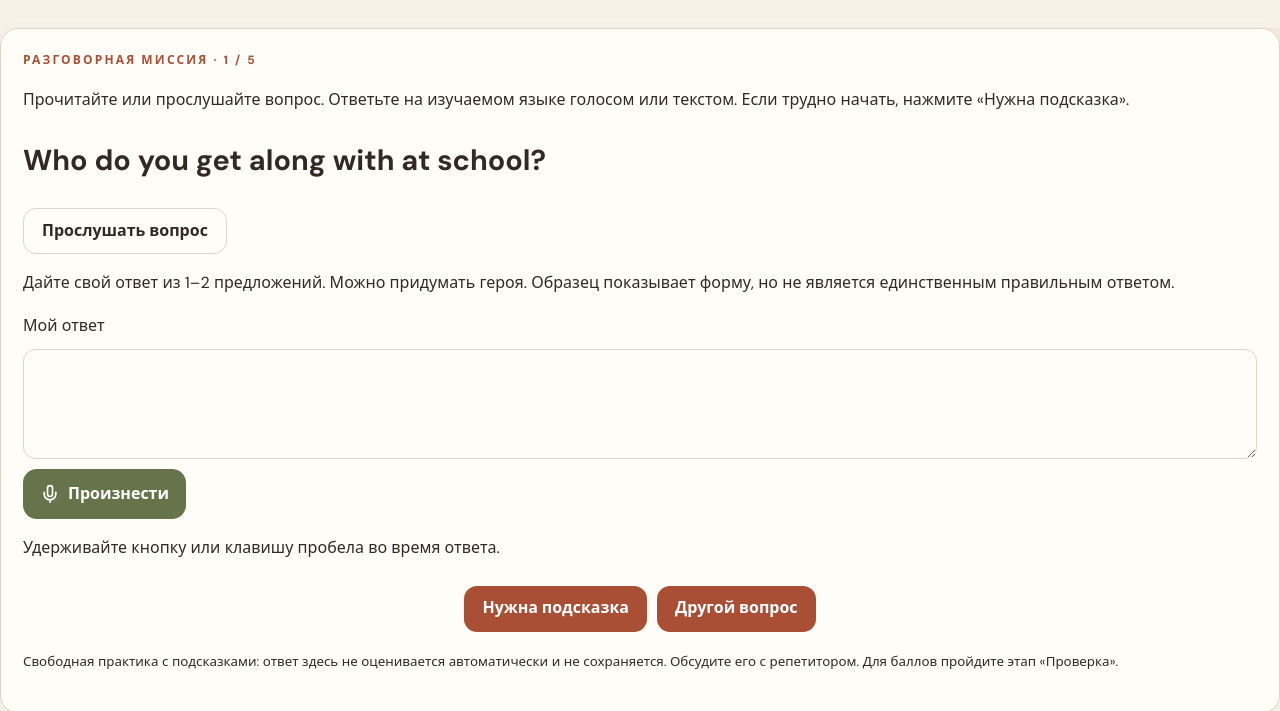
Scenario: English learning expansion › offers a model on demand and clears answers when moving to another question
Expected: the text "I get along with my cousin." is not shown
Click the button "Нужна подсказка" at (556, 609), box [464,586,647,632]
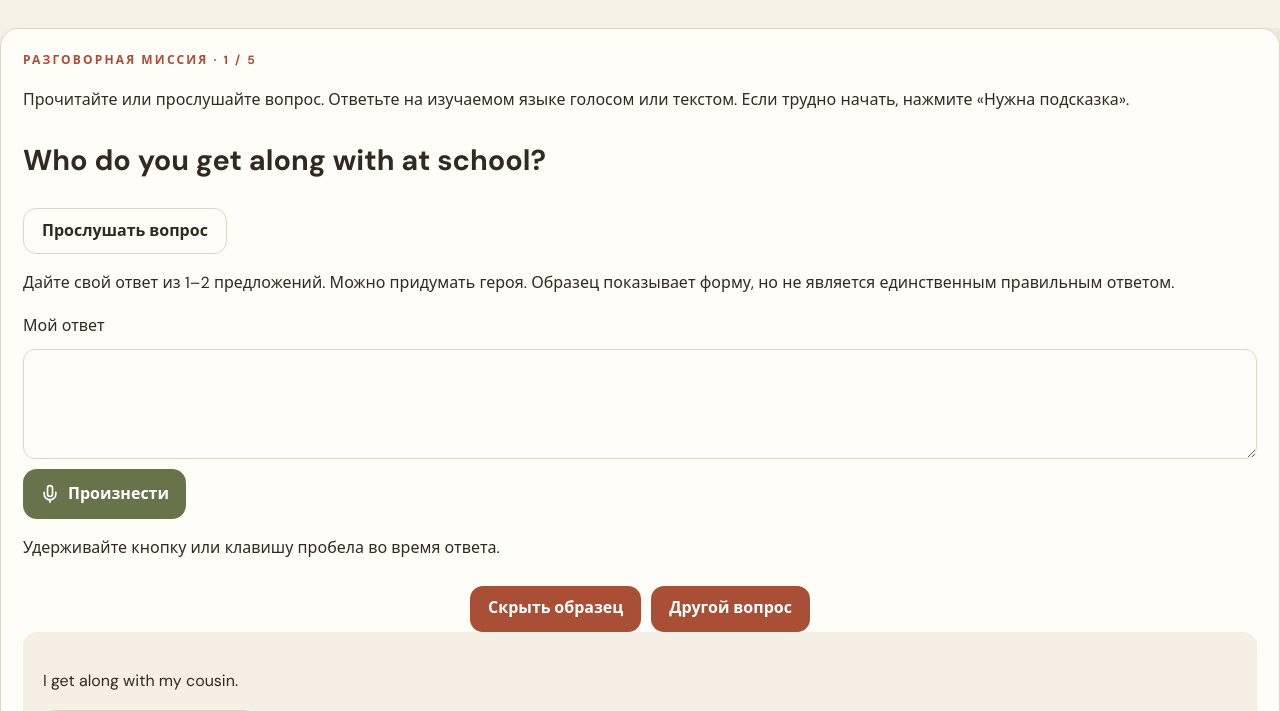
Expected: the text "I get along with my cousin." is shown, [43,670,238,691]
Type "My friend" into the text box at (640, 404), box [23,349,1257,459]
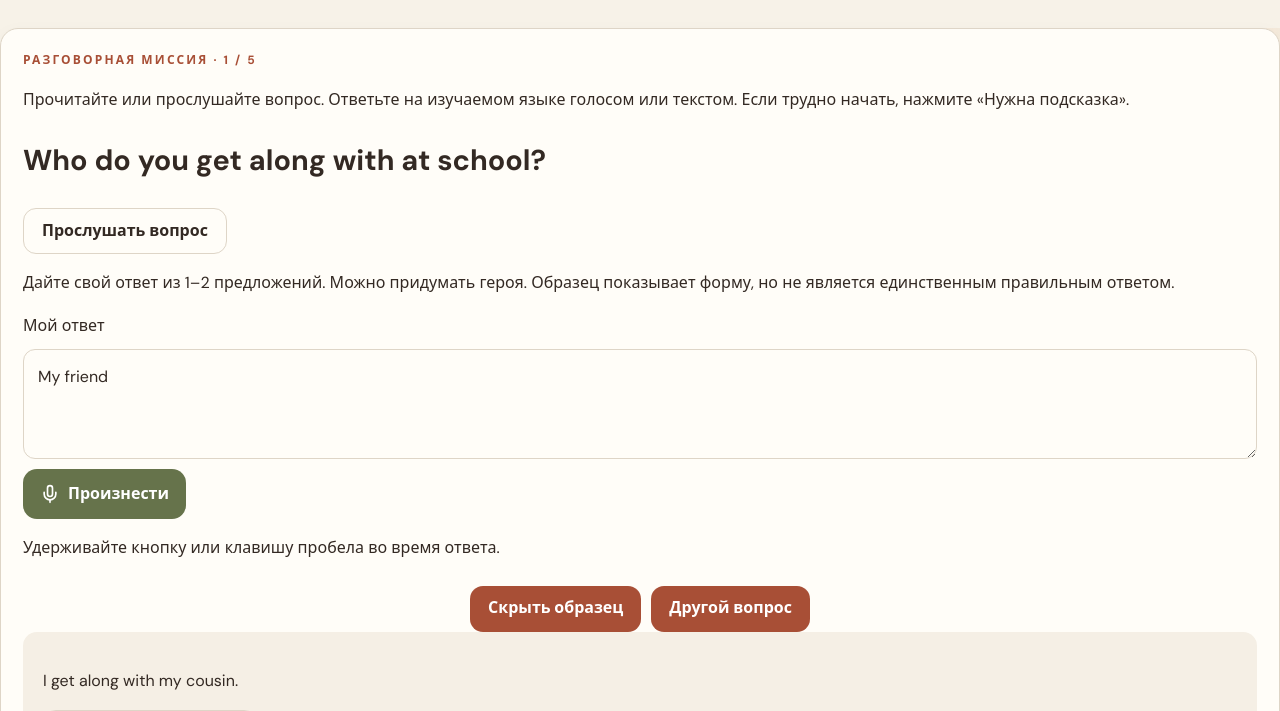
Click the button "Другой вопрос" at (731, 609), box [651,586,810,632]
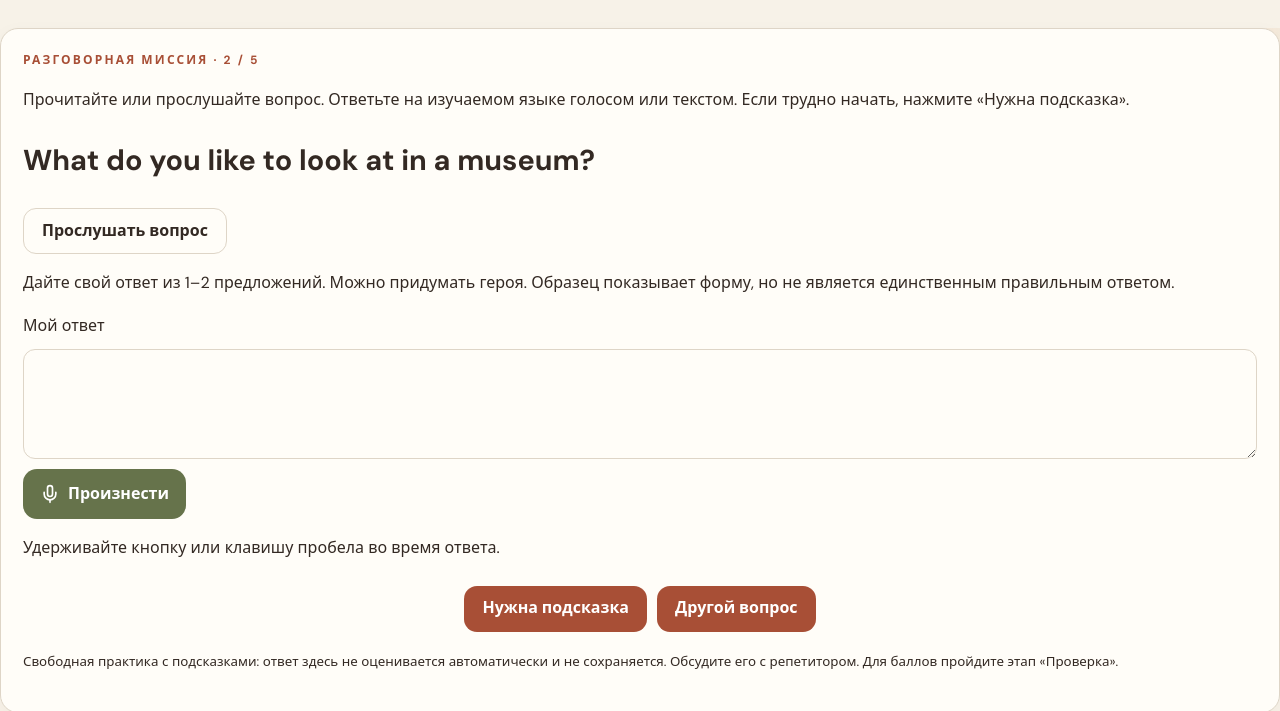
Expected: the text box is empty, [23,349,1257,459]
Expected: the heading shows "museum", [23,141,595,179]
